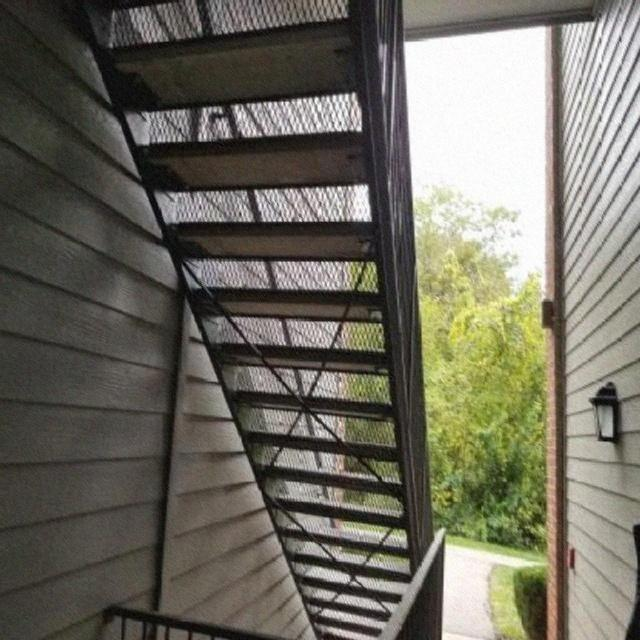stair: (50, 0, 478, 640)
